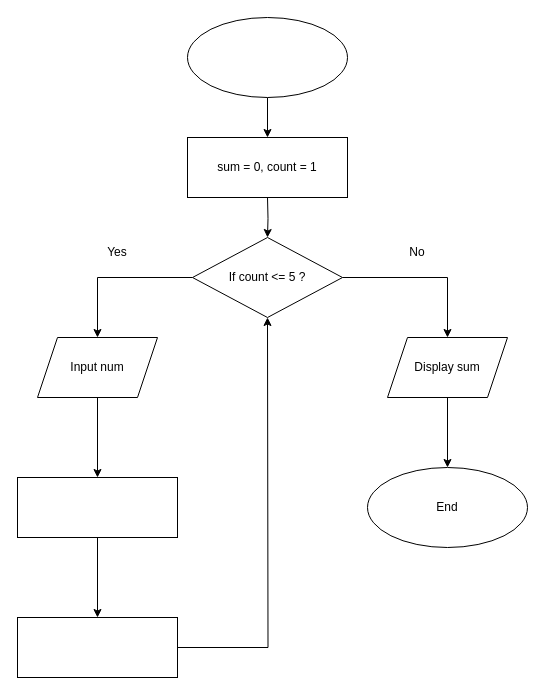
This 545x695 diagram has some shape labels left out. The box of each missing label's shape, as (x1, y1, x2, y2) in pixels:
count = count + 1: (16, 616, 178, 678)
Start: (186, 16, 348, 98)
sum = sum + num: (16, 476, 178, 538)
